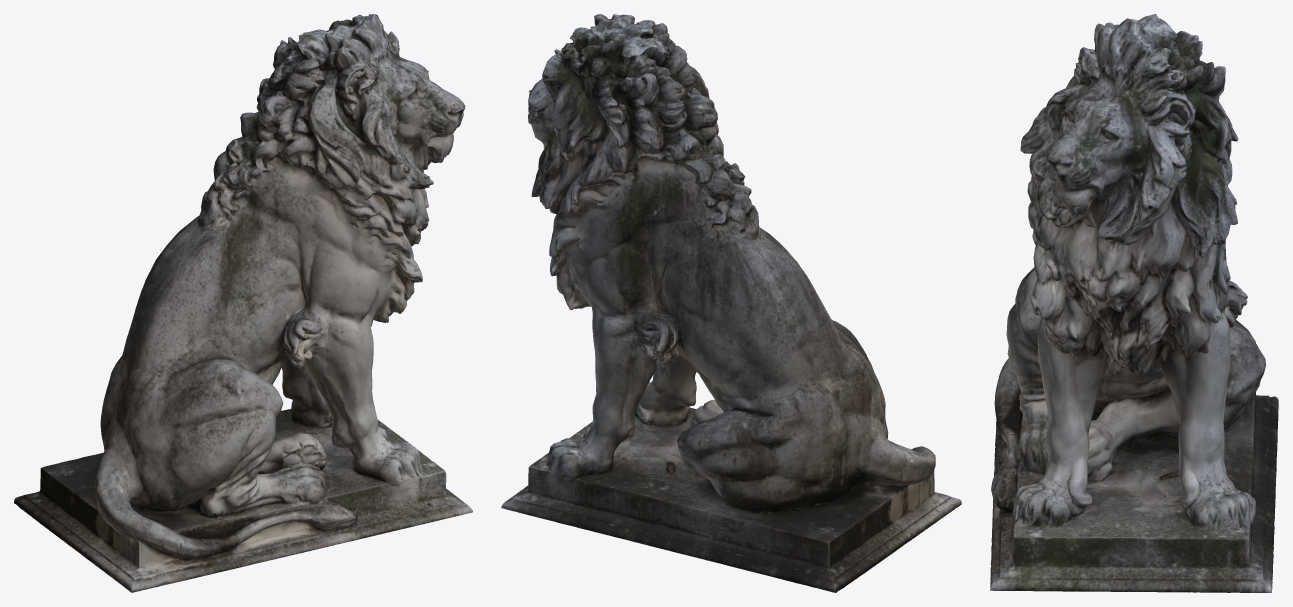
Rendered from vienna-lowe.glb.
The picture shows the model from 3 angles, left to right: view 1: azimuth 30°, elevation 25°; view 2: azimuth 150°, elevation 25°; view 3: azimuth 270°, elevation 25°; orthographic projection. The views are drawn at different scales.
Visible parts, largest first — view 1: Object_2; view 2: Object_2; view 3: Object_2.
Boxes of the visible parts, x1,y1,x2,y2 form: Object_2: [14, 14, 472, 592]; Object_2: [501, 14, 961, 592]; Object_2: [990, 14, 1278, 592].
Bounding box in the file's own units: 1.27 × 1.53 × 0.7532.
1 material, 1 textured.
